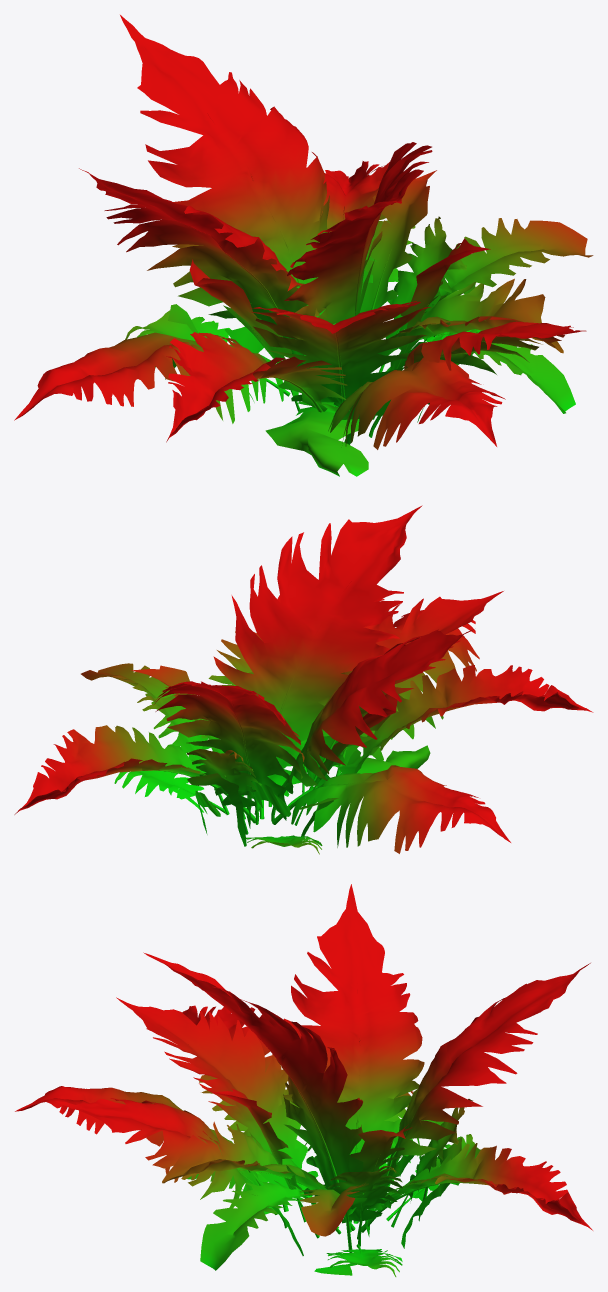
Rendered from Lady Fern_LOD0_Var2_wdvlditia.fbx.
3 renders of one model, top to bottom at view 1: azimuth 30°, elevation 25°; view 2: azimuth 150°, elevation 25°; view 3: azimuth 270°, elevation 25°, orthographic. The views are drawn at different scales.
Parts seen in each view (by area): view 1: _b1i6_Var2_LOD0; view 2: _b1i6_Var2_LOD0; view 3: _b1i6_Var2_LOD0.
Part boxes in pixels (box(x1,y1,x2,y2)): _b1i6_Var2_LOD0: box(14, 15, 593, 476); _b1i6_Var2_LOD0: box(14, 505, 593, 854); _b1i6_Var2_LOD0: box(15, 884, 592, 1276).
Size of the model in its own units: 78.06 by 43.1 by 87.65.
